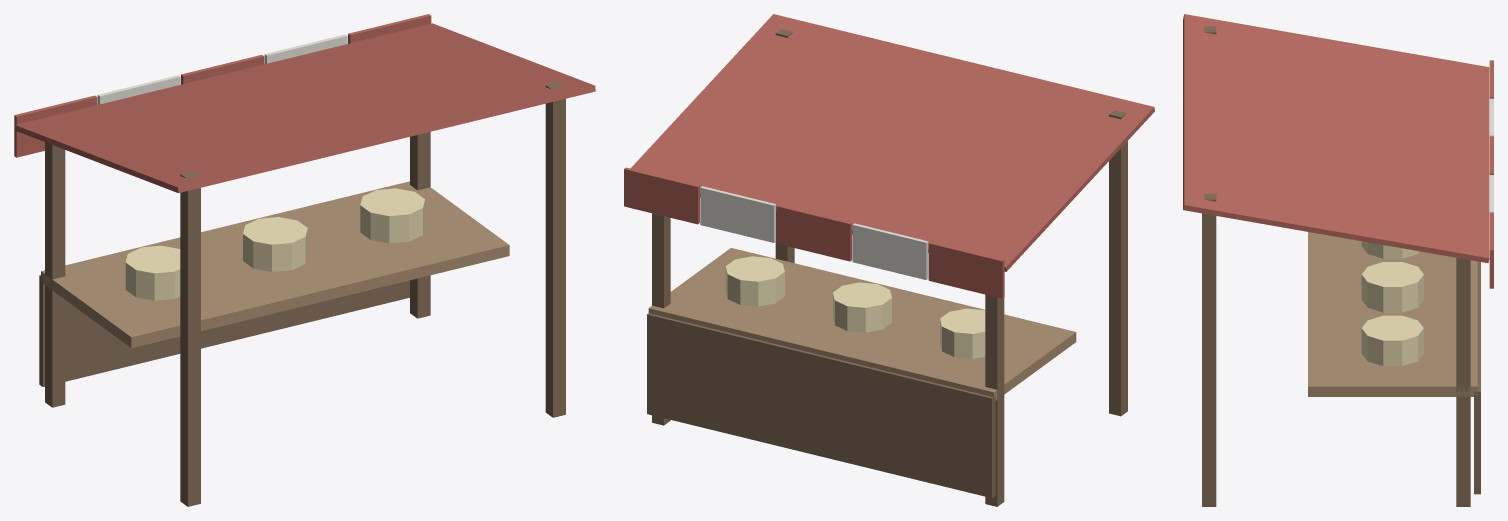
The model's file is stall.glb.
3 renders of one model, left to right at view 1: azimuth 30°, elevation 25°; view 2: azimuth 150°, elevation 25°; view 3: azimuth 270°, elevation 25°, orthographic. The views are drawn at different scales.
Parts seen in each view (by area): view 1: stall; view 2: stall; view 3: stall.
Part boxes in pixels (x1,y1,x2,y2): stall: (14,14,595,506); stall: (624,14,1154,506); stall: (1183,14,1493,506).
Bounding box in the file's own units: 3.2 × 2.43 × 2.2.
